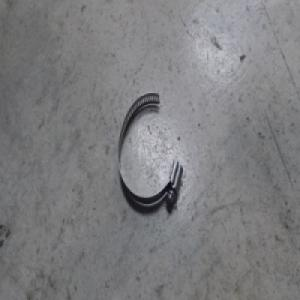AdjustableClamp: (116, 89, 182, 216)
